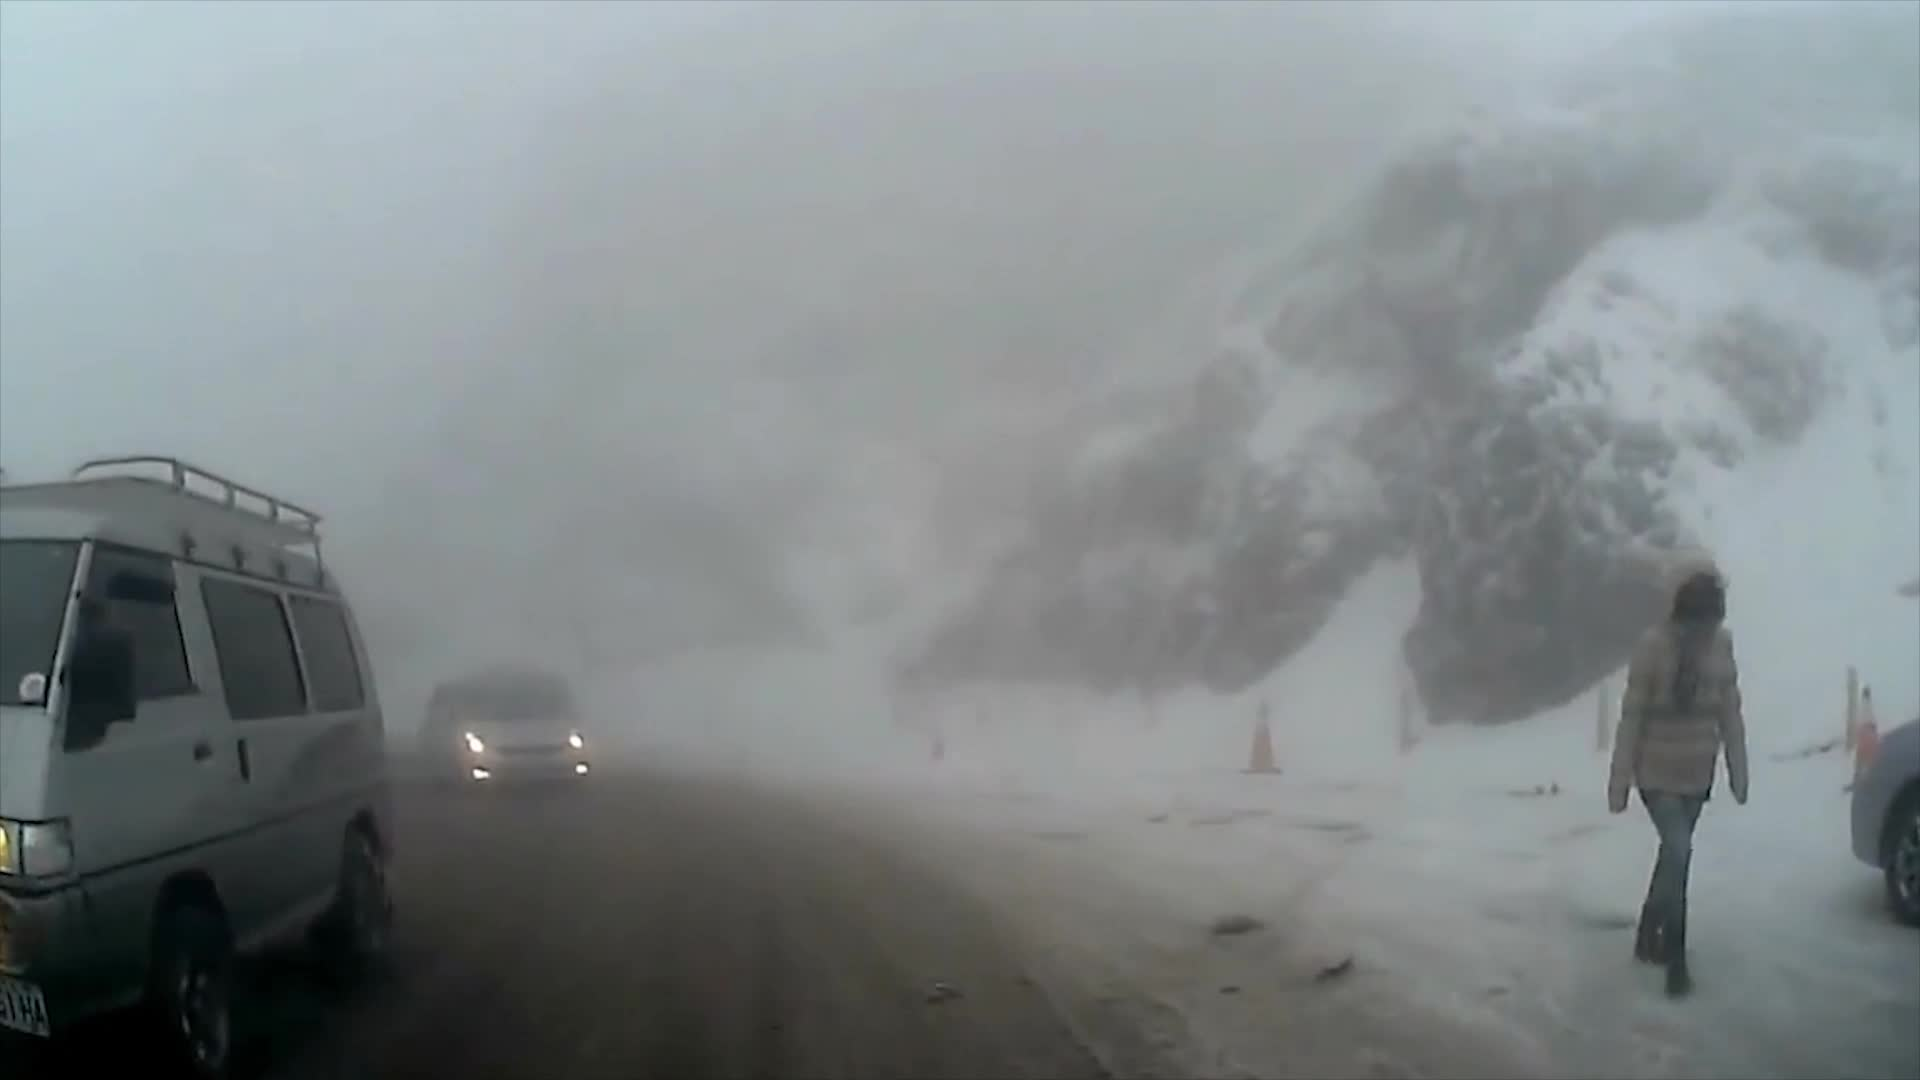pedestrian: (1601, 547, 1753, 1001)
vehicle: (0, 454, 405, 1080), (420, 671, 596, 798)
